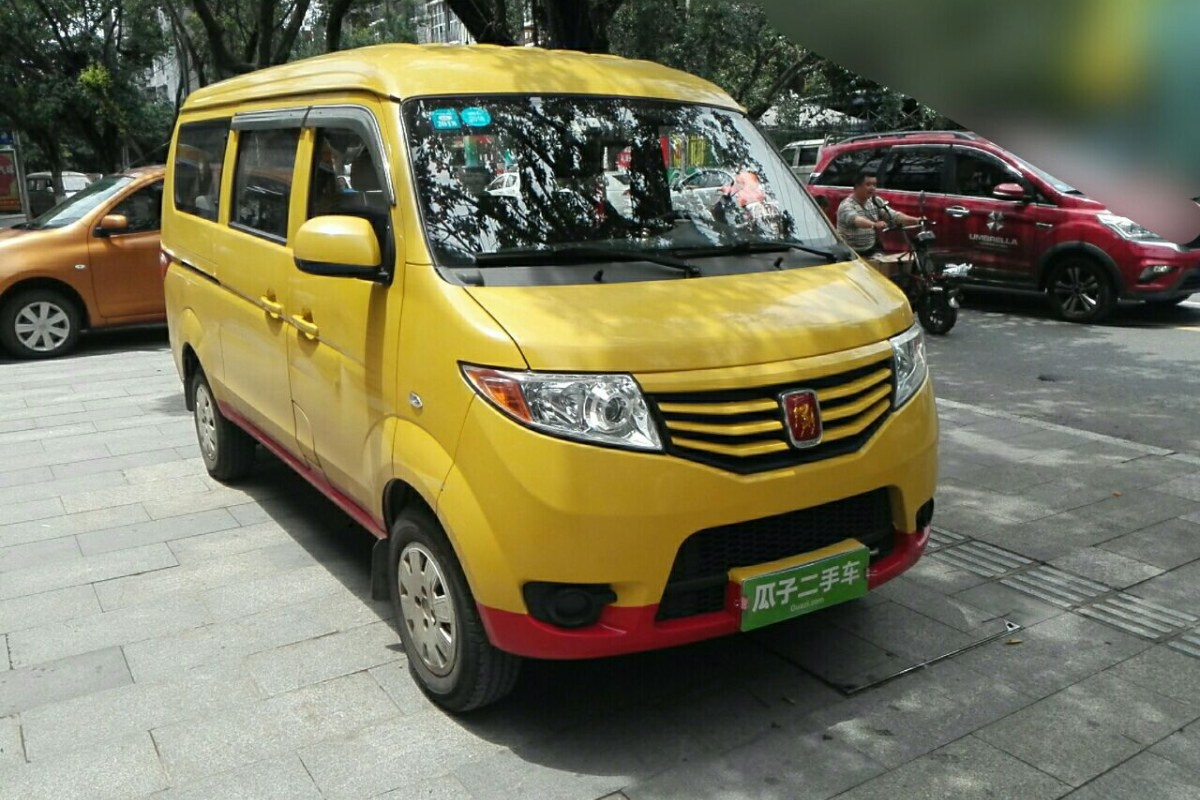minibus: (147, 31, 945, 709)
